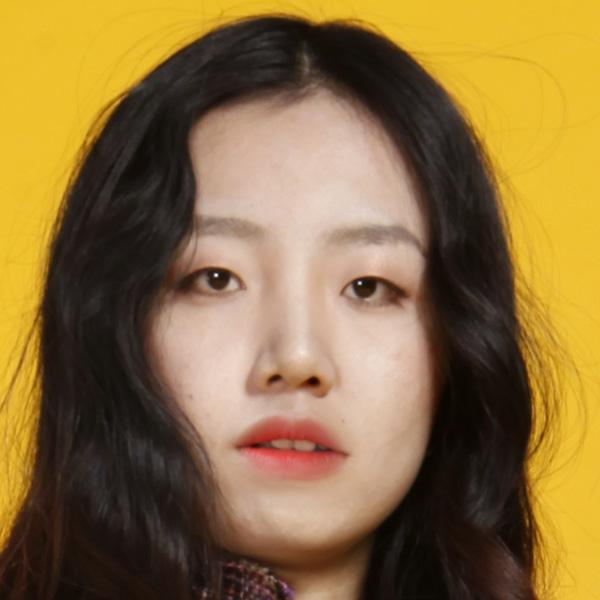Eyes: (168, 247, 256, 311), (331, 260, 412, 321)
